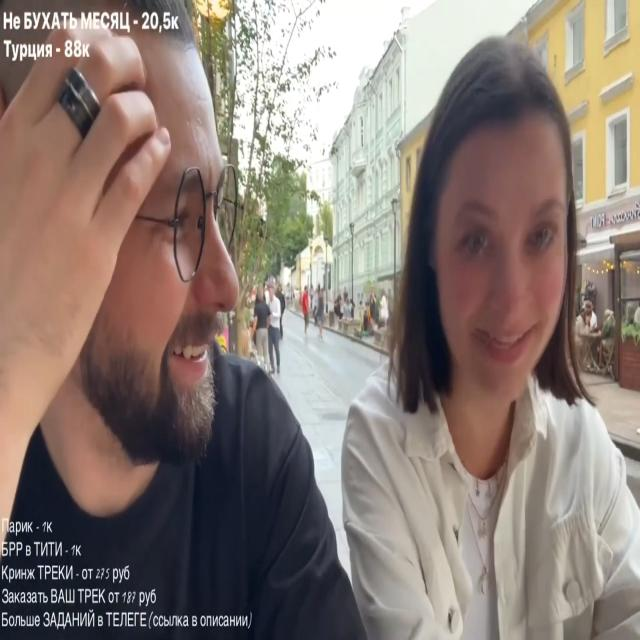Person: (0, 17, 353, 636), (306, 24, 640, 640), (250, 292, 274, 371), (266, 283, 286, 371), (300, 288, 312, 330)
